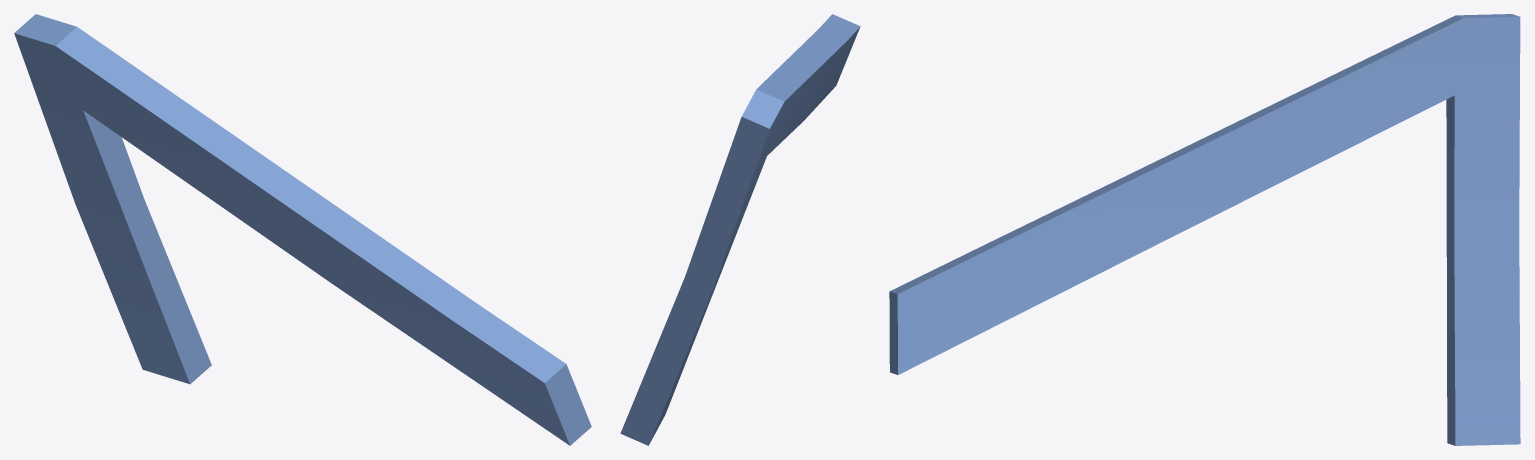
The model's file is Number_7.gltf.
3 views of the same model, side by side, from view 1: azimuth 30°, elevation 25°; view 2: azimuth 150°, elevation 25°; view 3: azimuth 270°, elevation 25° (orthographic). The views are drawn at different scales.
Visible parts, largest first — view 1: Sub_8_Cell_3_3_Number_7; view 2: Sub_8_Cell_3_3_Number_7; view 3: Sub_8_Cell_3_3_Number_7.
Part boxes in pixels (x1,y1,x2,y2): Sub_8_Cell_3_3_Number_7: (14, 14, 591, 445); Sub_8_Cell_3_3_Number_7: (620, 14, 860, 445); Sub_8_Cell_3_3_Number_7: (889, 14, 1520, 445).
Size of the model in its own units: 0.012 by 0.0164 by 0.0246.
